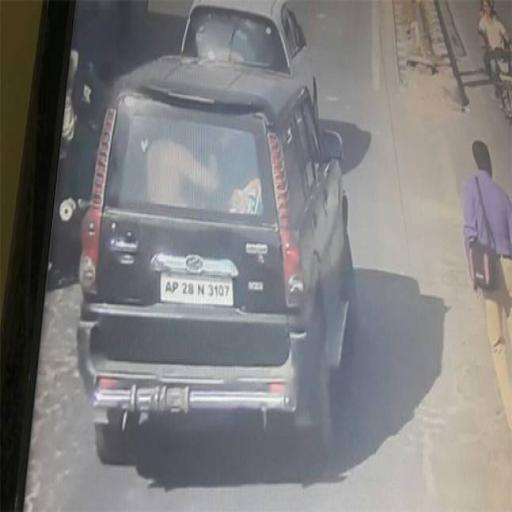License: (160, 272, 234, 308)
